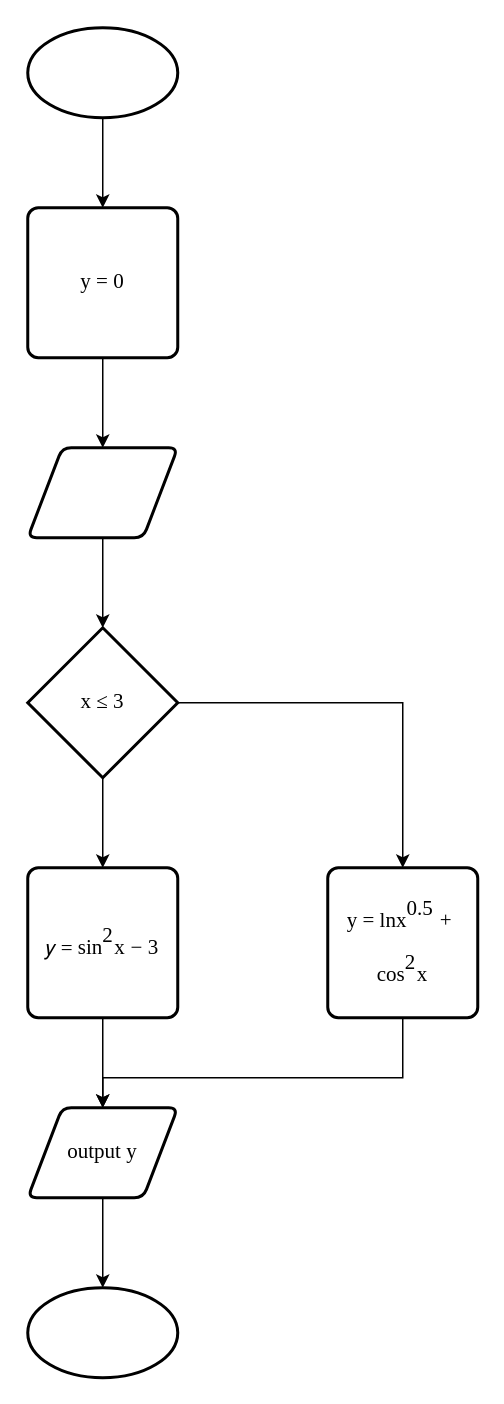
The diagram is 504 pixels wide and 1404 high, and some of its shapes have lost their labels. The shapes that lost their labels are listed below. From the top down, each one's box as (x1, y1, x2, y2) in pixels, then its label:
(26, 26, 178, 118): start
(26, 446, 178, 538): input x
(26, 1286, 178, 1378): end
